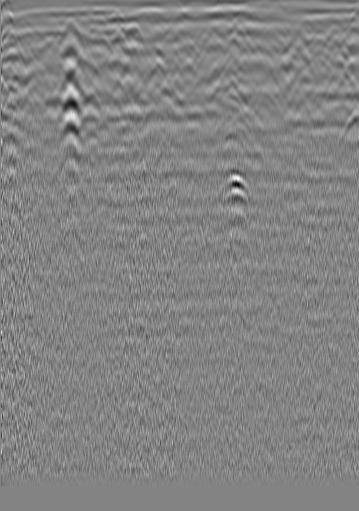가스: (216, 169, 255, 205)
상수: (320, 23, 348, 55)
오수: (0, 11, 28, 43)
우수: (153, 23, 187, 49)
